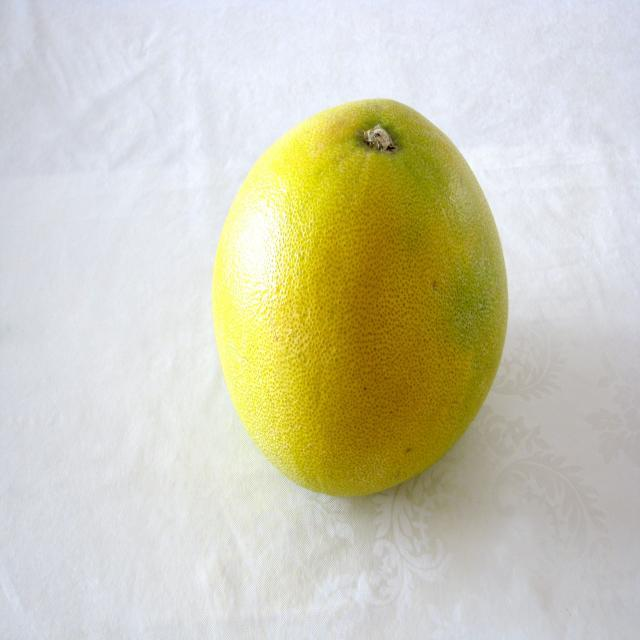Orange: (212, 99, 513, 502)
